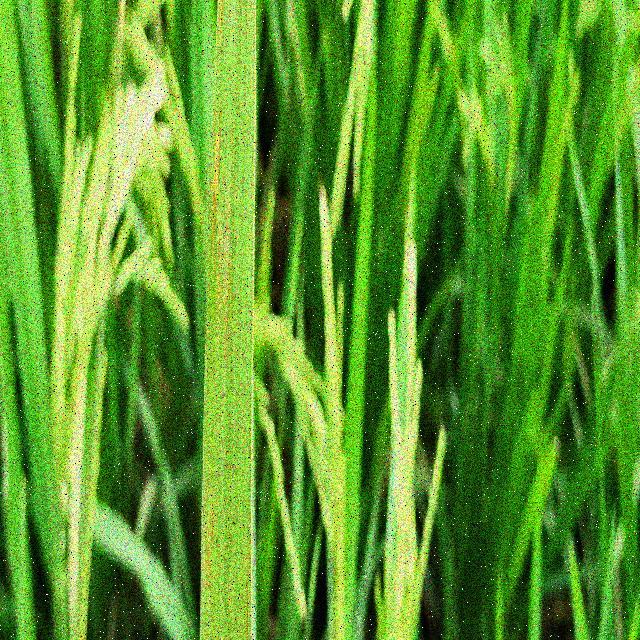NBS: (224, 206, 228, 363), (217, 104, 222, 206), (218, 230, 221, 334), (212, 178, 215, 252), (246, 567, 248, 640), (207, 539, 209, 587), (212, 503, 214, 534), (221, 0, 222, 51)
